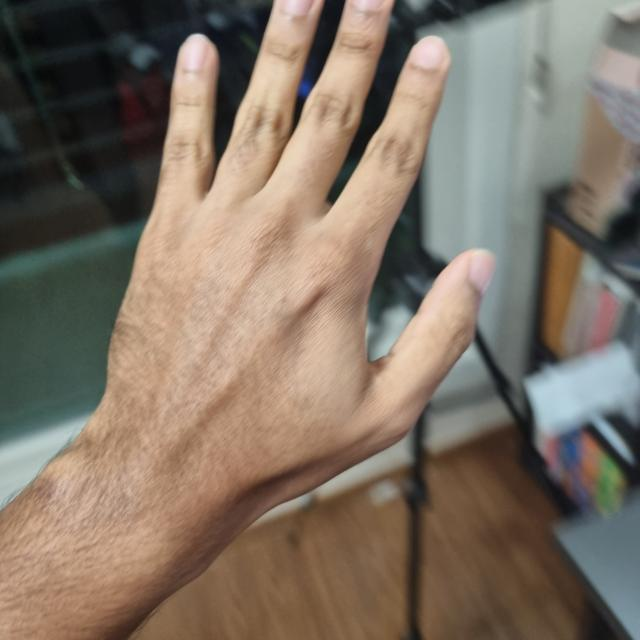Paper: (91, 2, 491, 567)
